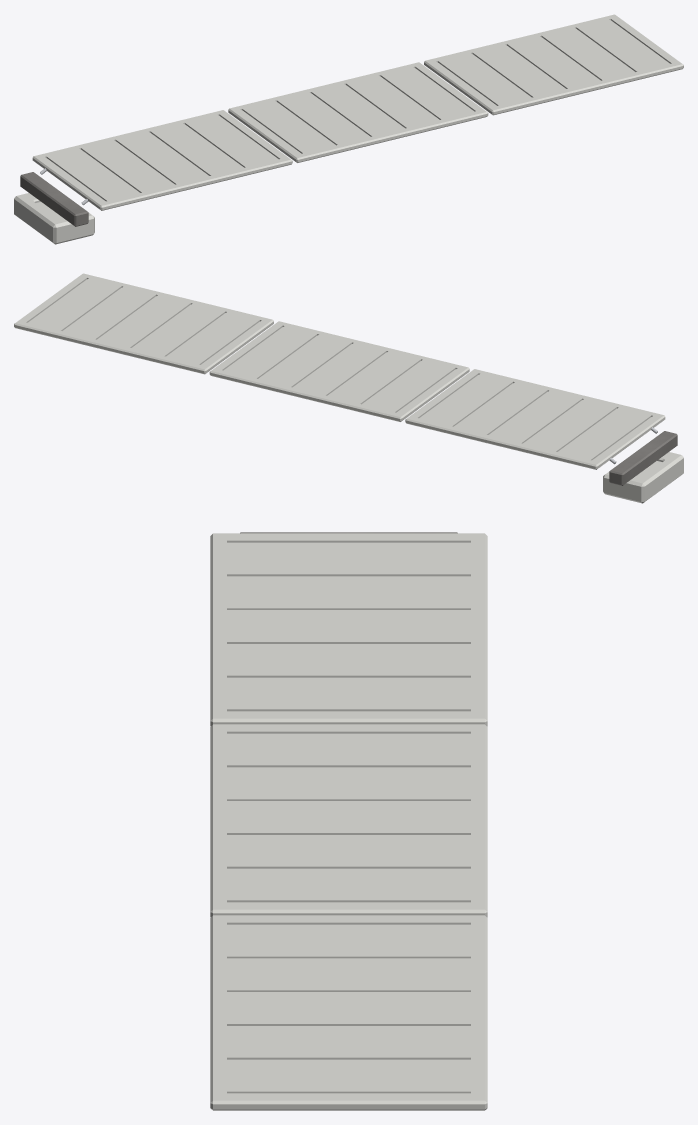
Rendered from ax_power_05_deployable_radiator_m_deployed.glb.
The picture shows the model from 3 angles, top to bottom: view 1: azimuth 30°, elevation 25°; view 2: azimuth 150°, elevation 25°; view 3: azimuth 270°, elevation 25°; orthographic projection. The views are drawn at different scales.
Visible parts, largest first — view 1: panel_2, panel_3, panel_1, mount_block, hinge_base; view 2: panel_2, panel_3, panel_1, mount_block, hinge_base; view 3: panel_3, panel_1, panel_2.
Boxes of the visible parts, x1,y1,x2,y2 form: panel_2: (228,62,488,162); panel_3: (424,14,683,115); panel_1: (32,110,292,210); mount_block: (14,193,94,244); hinge_base: (20,172,88,226); panel_2: (209,321,469,421); panel_3: (14,273,273,374); panel_1: (405,369,665,469); mount_block: (603,452,683,503); hinge_base: (609,431,677,485); panel_3: (210,915,487,1110); panel_1: (210,533,487,726); panel_2: (210,724,487,917).
Bounding box in the file's own units: 5.14 × 0.33 × 1.
3 materials, 2 textured.
